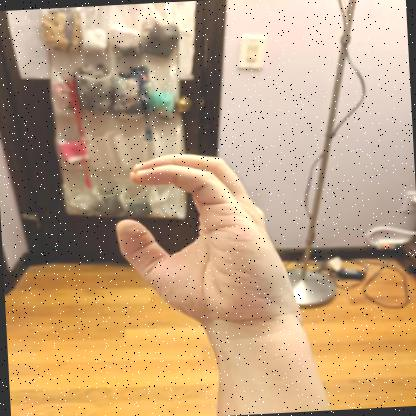C: (115, 153, 301, 330)
